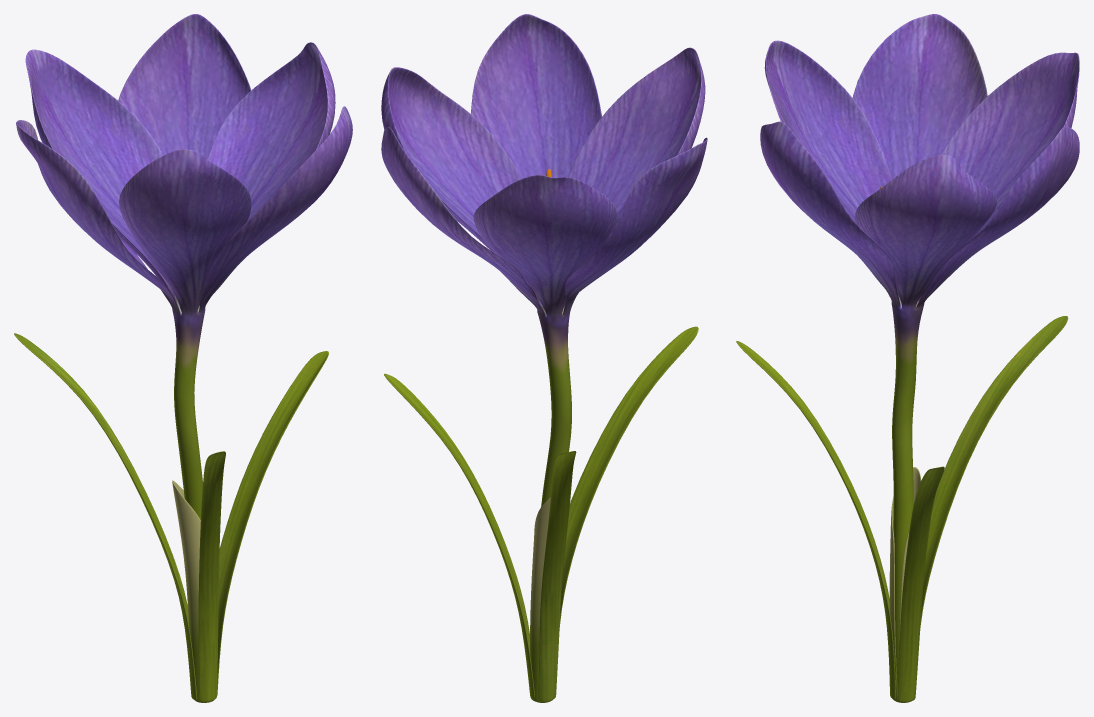
Rendered from flower3.glb.
3 views of the same model, side by side, from view 1: azimuth 30°, elevation 25°; view 2: azimuth 150°, elevation 25°; view 3: azimuth 270°, elevation 25° (orthographic).
Visible parts, largest first — view 1: 12974_crocus_flower_v1_l3; view 2: 12974_crocus_flower_v1_l3; view 3: 12974_crocus_flower_v1_l3.
Part boxes in pixels (x1,y1,x2,y2): 12974_crocus_flower_v1_l3: (14, 14, 352, 702); 12974_crocus_flower_v1_l3: (381, 14, 707, 702); 12974_crocus_flower_v1_l3: (736, 14, 1079, 702).
Size of the model in its own units: 1.03 by 1.94 by 0.9831.
Materials: 1 (1 with a texture image).
